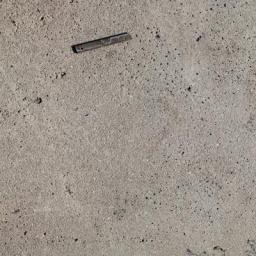FOD: (71, 32, 135, 56)
